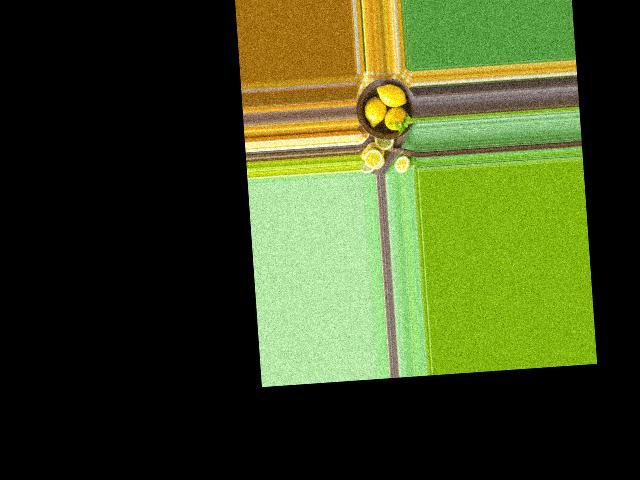lemon: (374, 79, 410, 111)
